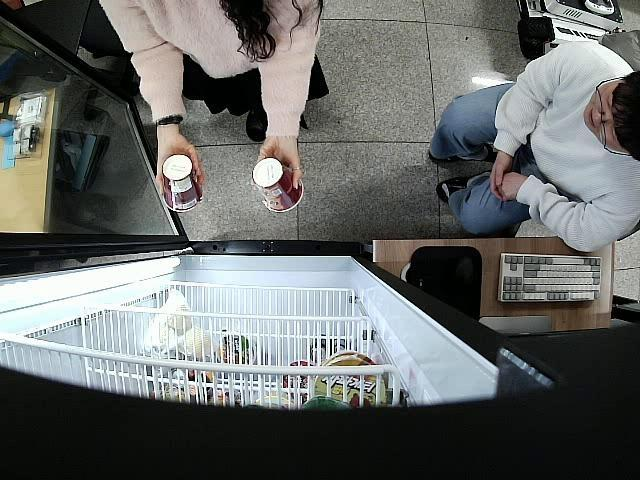06_nuguri_S: (250, 157, 304, 213), (160, 153, 203, 212)
